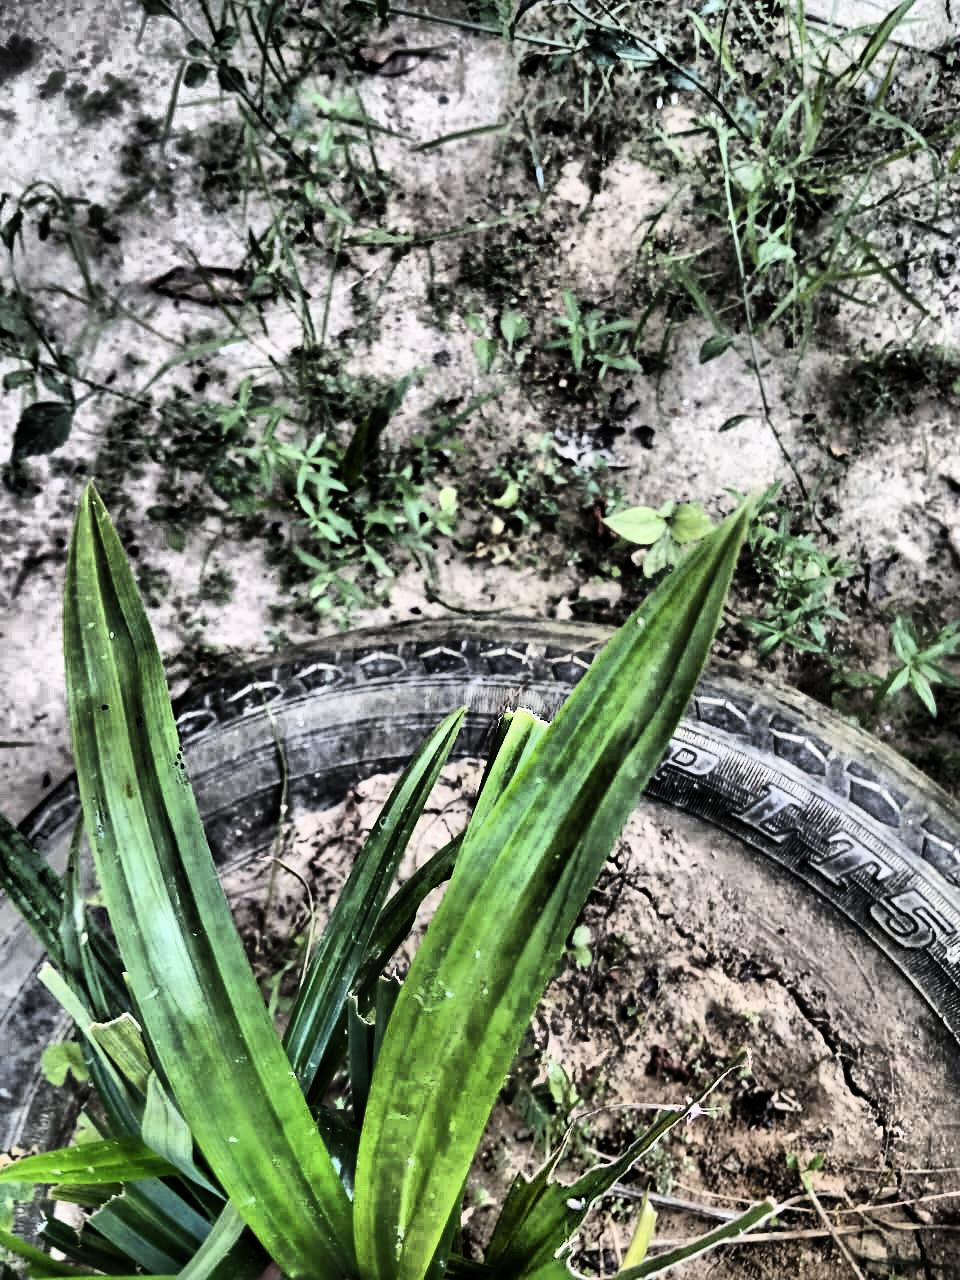daun pandan: (0, 489, 752, 1279)
